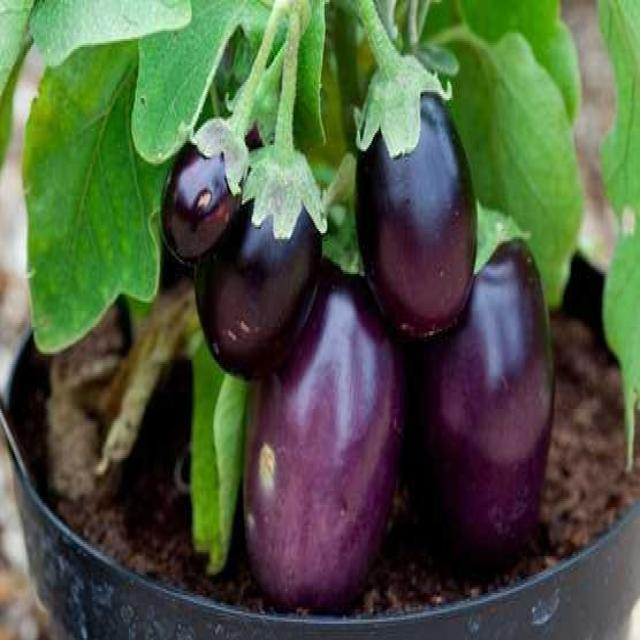Eggplant-r1Ob: (244, 266, 404, 608), (420, 207, 554, 567), (196, 7, 326, 376), (356, 0, 476, 338)
